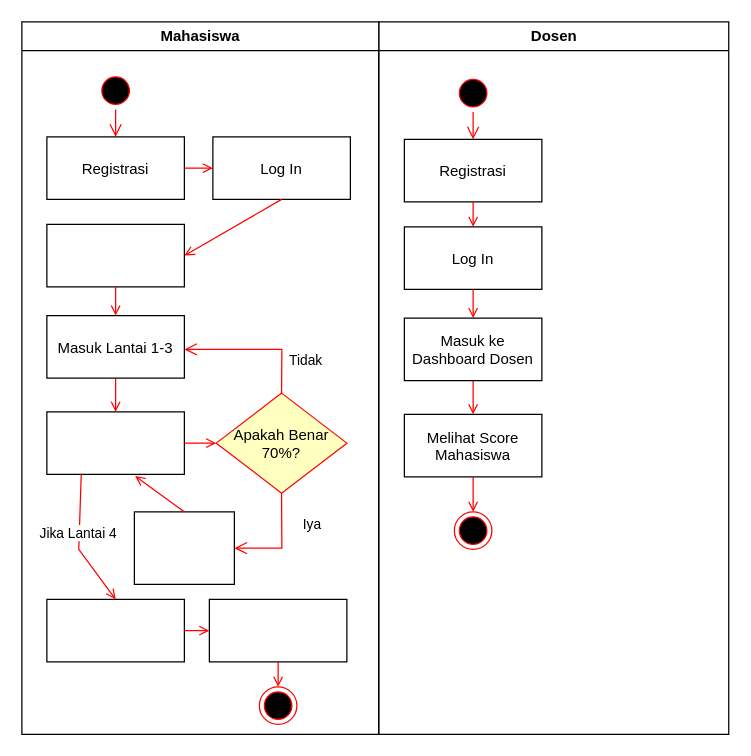
This 751x756 diagram has some shape labels left out. Each missing label, with the centre of its shape:
"Lanjut ke Lantai Berikutnya" belongs at pixel 183 547.
"Mengerjakan Quest" belongs at pixel 115 442.
"Menu Game" belongs at pixel 115 255.
"Score" belongs at pixel 115 630.
"Simpan Score ke Database" belongs at pixel 277 630.
